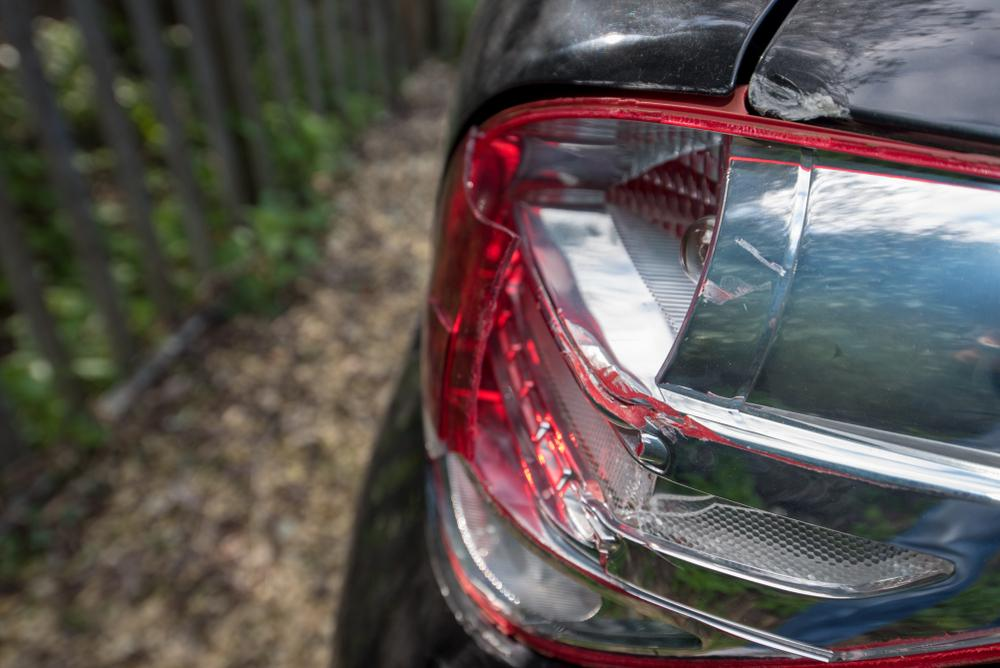dent: (752, 45, 864, 119)
lamp broken: (425, 94, 1000, 668)
